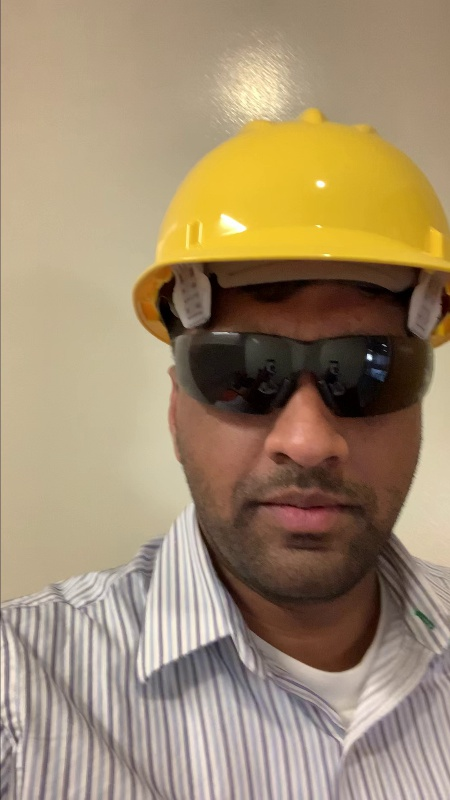glasses: (163, 328, 450, 428)
helmet: (123, 104, 450, 335)
